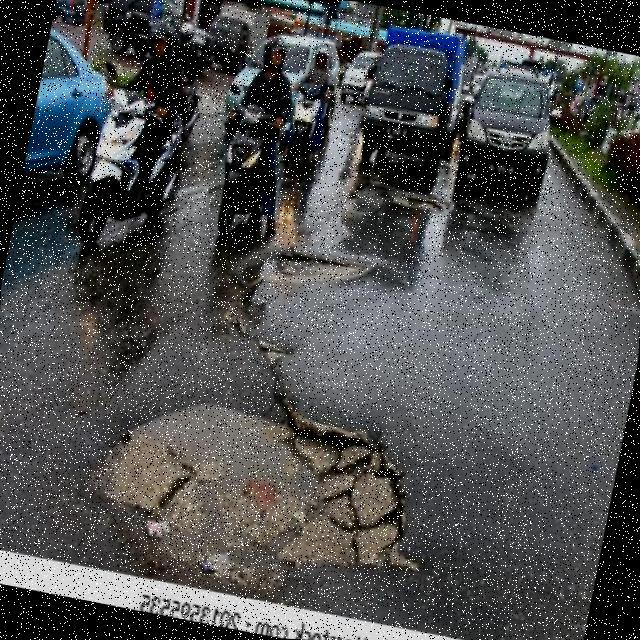Pothole: (88, 404, 418, 586), (242, 247, 372, 288), (358, 185, 444, 211)
